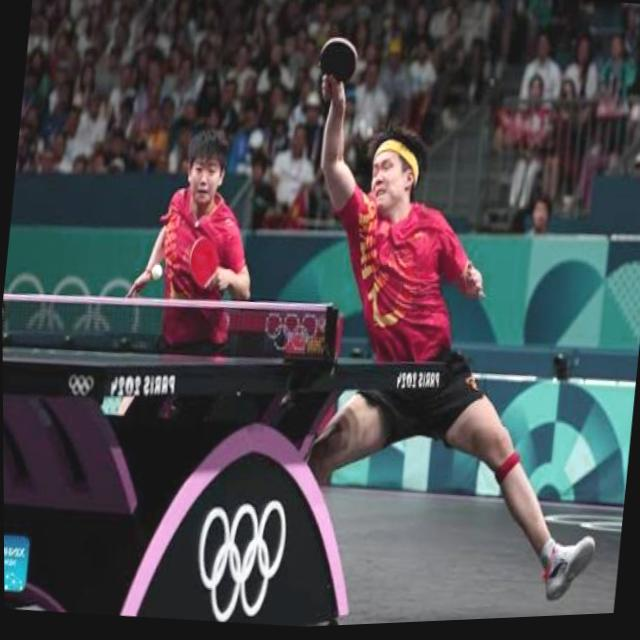TT Net: (2, 288, 336, 371)
TT Racket: (306, 27, 365, 96), (180, 228, 226, 296)
TT Table: (3, 345, 434, 364)
